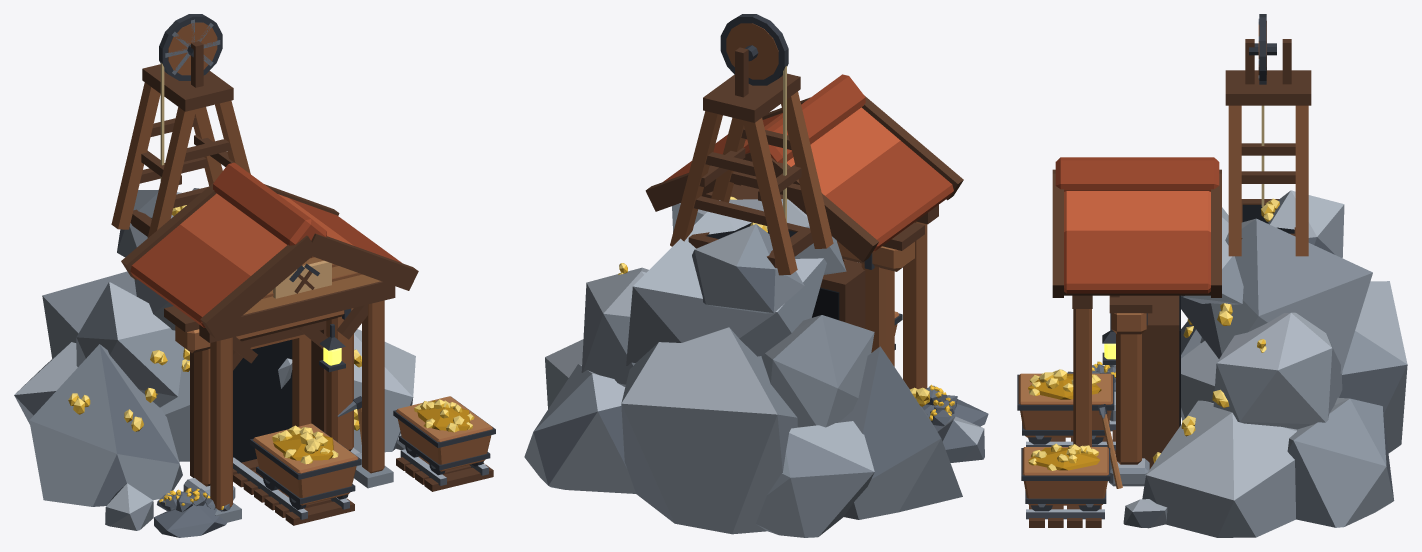
File: Bld_Mine_L2.fbx
3 views of the same model, side by side, from view 1: azimuth 30°, elevation 25°; view 2: azimuth 150°, elevation 25°; view 3: azimuth 270°, elevation 25° (orthographic). The views are drawn at different scales.
Parts seen in each view (by area): view 1: Bld_Mine_L2; view 2: Bld_Mine_L2; view 3: Bld_Mine_L2.
Part boxes in pixels (left/top/right/bottom): Bld_Mine_L2: left=14, top=14, right=495, bottom=537; Bld_Mine_L2: left=524, top=14, right=988, bottom=537; Bld_Mine_L2: left=1017, top=14, right=1407, bottom=537.
Size of the model in its own units: 4.73 by 5.04 by 4.2.
